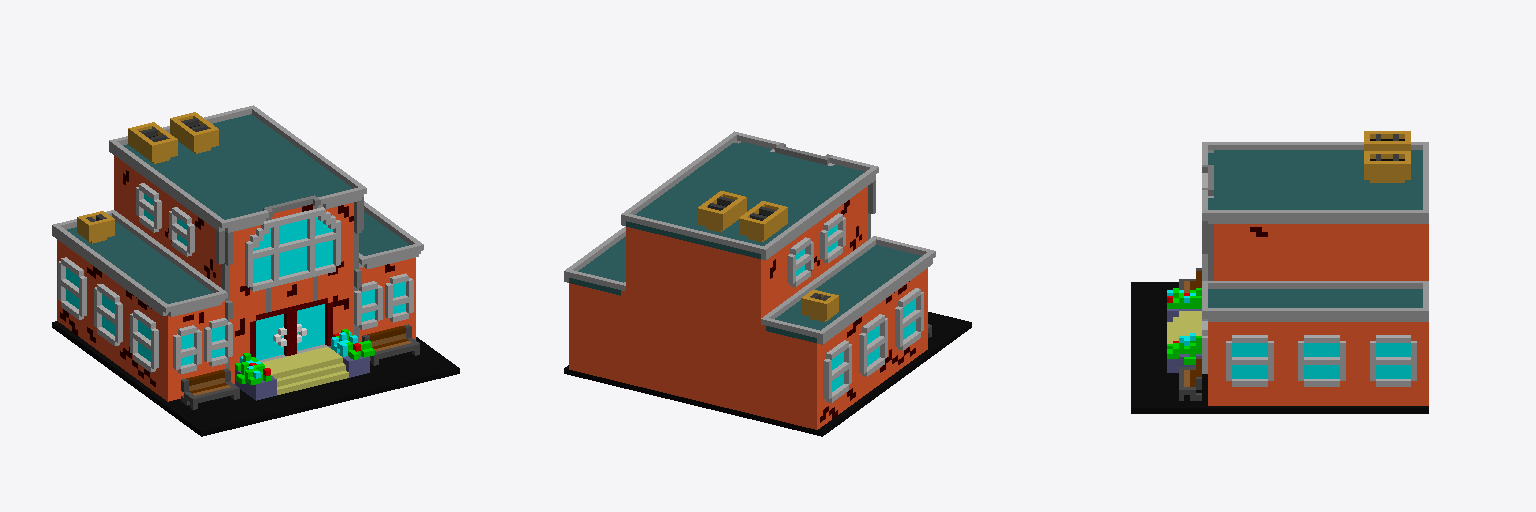
3 renders of one model, left to right at view 1: azimuth 30°, elevation 25°; view 2: azimuth 150°, elevation 25°; view 3: azimuth 270°, elevation 25°, orthographic.
Visible parts, largest first — view 1: object 1; view 2: object 1; view 3: object 1.
Part boxes in pixels (x1,y1,x2,y2): object 1: (52,105,459,436); object 1: (564,131,971,436); object 1: (1131,131,1428,413).
Bounding box in the file's own units: 5 × 3.5 × 5.
1 materials, 1 textured.